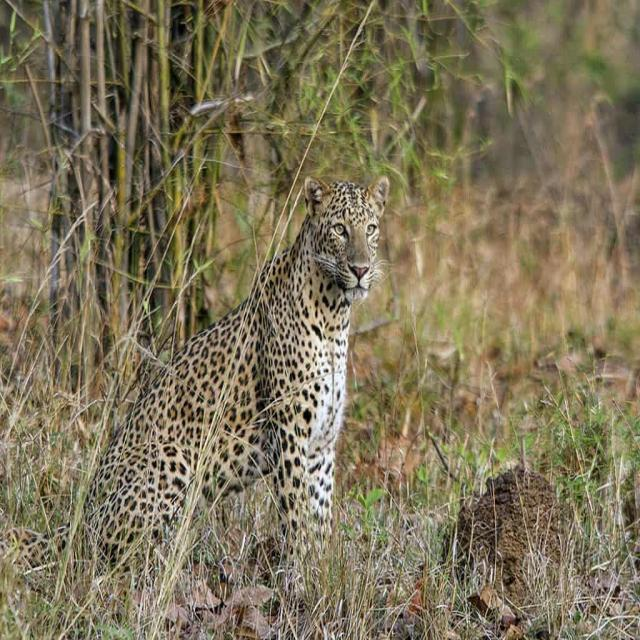Leopard: (82, 176, 390, 630)
